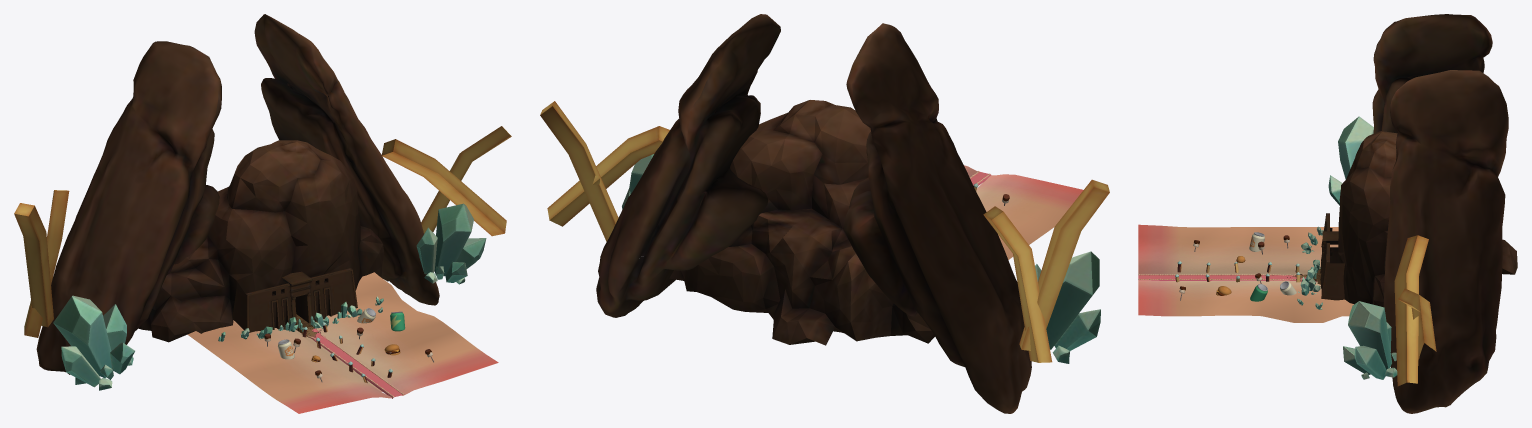
Rendered from stg1_exit.gltf.
The picture shows the model from 3 angles, left to right: view 1: azimuth 30°, elevation 25°; view 2: azimuth 150°, elevation 25°; view 3: azimuth 270°, elevation 25°; orthographic projection. The views are drawn at different scales.
Parts seen in each view (by area): view 1: cliff_GEO_1:PIV, cliff_GEO_2:PIV, land_GEO:PIV, cliff_GEO_3:PIV, crystal_GEO4:PIV, temple_GEO:PIV, crystal_GEO2:PIV, fries_GEO_5:PIV, fries_GEO_4:PIV, fries_GEO_1:PIV, fries_GEO_2:PIV, burgerland_MASH_GEO:PIV (+2 smaller); view 2: cliff_GEO_1:PIV, cliff_GEO_2:PIV, cliff_GEO_3:PIV, land_GEO:PIV, crystal_GEO4:PIV, fries_GEO_4:PIV, fries_GEO_1:PIV, fries_GEO_5:PIV, fries_GEO_2:PIV; view 3: cliff_GEO_3:PIV, land_GEO:PIV, cliff_GEO_2:PIV, cliff_GEO_1:PIV, fries_GEO_5:PIV, crystal_GEO2:PIV, temple_GEO:PIV, crystal_GEO4:PIV, fries_GEO_2:PIV, burgerland_MASH_GEO:PIV, crystals_MASH_GEO, candypath_GEO:PIV (+2 smaller).
Part boxes in pixels (x1,y1,x2,y2): cliff_GEO_1:PIV: (36,41,221,374); cliff_GEO_2:PIV: (138,140,383,342); land_GEO:PIV: (187,272,498,413); cliff_GEO_3:PIV: (254,14,439,305); crystal_GEO4:PIV: (53,295,134,390); temple_GEO:PIV: (232,268,357,332); crystal_GEO2:PIV: (416,203,486,284); fries_GEO_5:PIV: (381,139,506,236); fries_GEO_4:PIV: (14,203,53,327); fries_GEO_1:PIV: (24,190,69,337); fries_GEO_2:PIV: (421,126,511,233); burgerland_MASH_GEO:PIV: (264,308,433,382); cliff_GEO_1:PIV: (844,23,1031,413); cliff_GEO_2:PIV: (669,100,934,345); cliff_GEO_3:PIV: (596,14,780,317); land_GEO:PIV: (964,165,1083,259); crystal_GEO4:PIV: (1035,251,1100,363); fries_GEO_4:PIV: (1019,179,1109,350); fries_GEO_1:PIV: (983,206,1052,362); fries_GEO_5:PIV: (547,126,669,226); fries_GEO_2:PIV: (540,101,618,241); cliff_GEO_3:PIV: (1383,70,1508,413); land_GEO:PIV: (1138,224,1353,322); cliff_GEO_2:PIV: (1338,131,1517,307); cliff_GEO_1:PIV: (1372,14,1492,133); fries_GEO_5:PIV: (1394,235,1428,386); crystal_GEO2:PIV: (1343,301,1397,379); temple_GEO:PIV: (1320,213,1344,300); crystal_GEO4:PIV: (1328,116,1373,205); fries_GEO_2:PIV: (1398,288,1436,359); burgerland_MASH_GEO:PIV: (1179,232,1296,301); crystals_MASH_GEO: (1297,226,1323,309); candypath_GEO:PIV: (1138,275,1265,280).
Bounding box in the file's own units: 47148 × 27373 × 32397.
18 materials, 17 textured.
